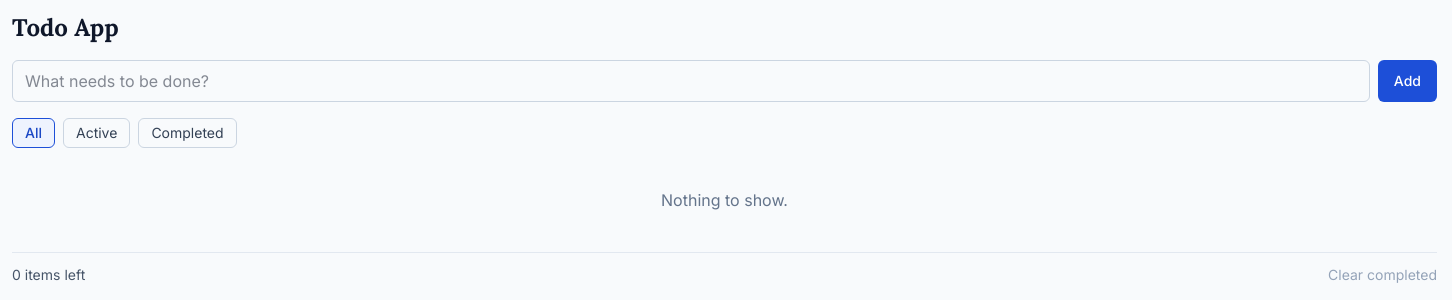
Test: TodoPage › edits and deletes a todo
Step 1. Type "Old title" into the field named "New todo" → (691, 81), box [12,60,1370,102]
Then press Enter
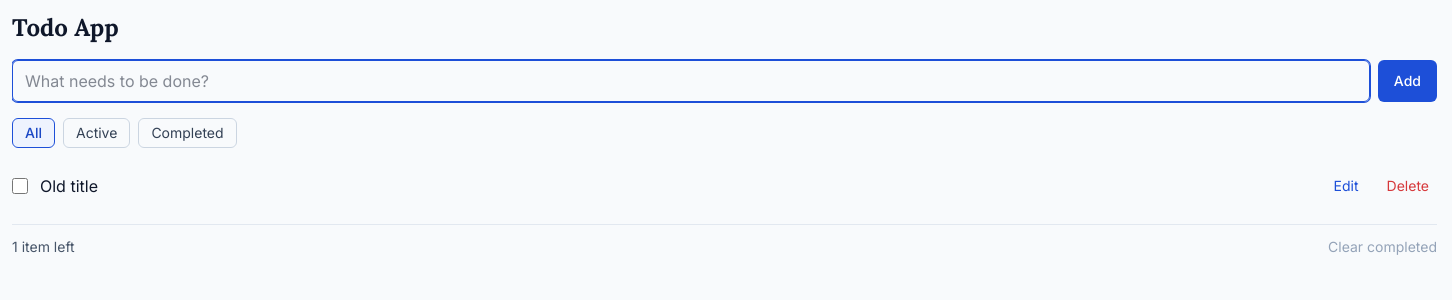
Step 2. Click the button "Edit" → (1346, 186), box [1326,172,1367,200]
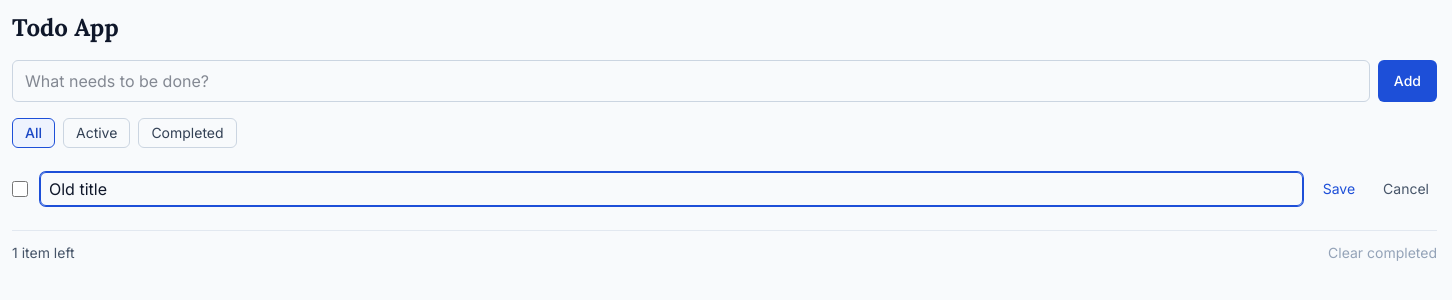
Step 3. Replace the text in the field named "Edit Old title" with "New title" → (671, 189), box [40,172,1303,206]
Then press Enter
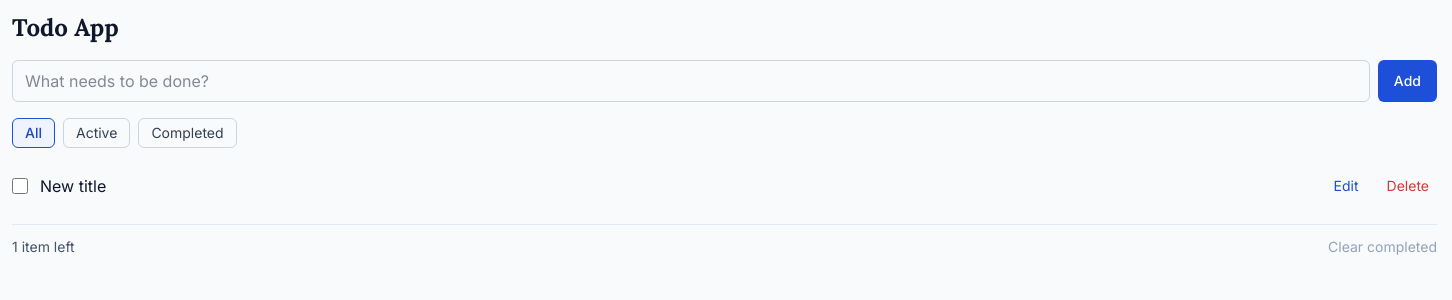
Expected: the text "New title" is shown, [40,176,106,196]
Step 4. Click the button with aria-label "Delete New title" → (1408, 186), box [1379,172,1437,200]
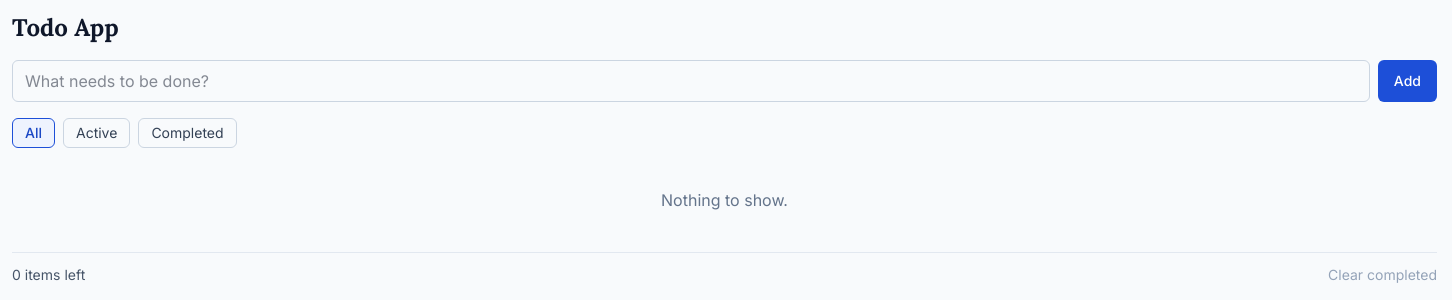
Expected: the text "New title" is gone
